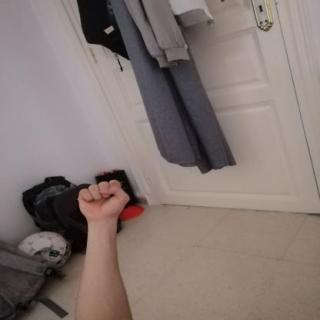SAD: (68, 174, 140, 224)
